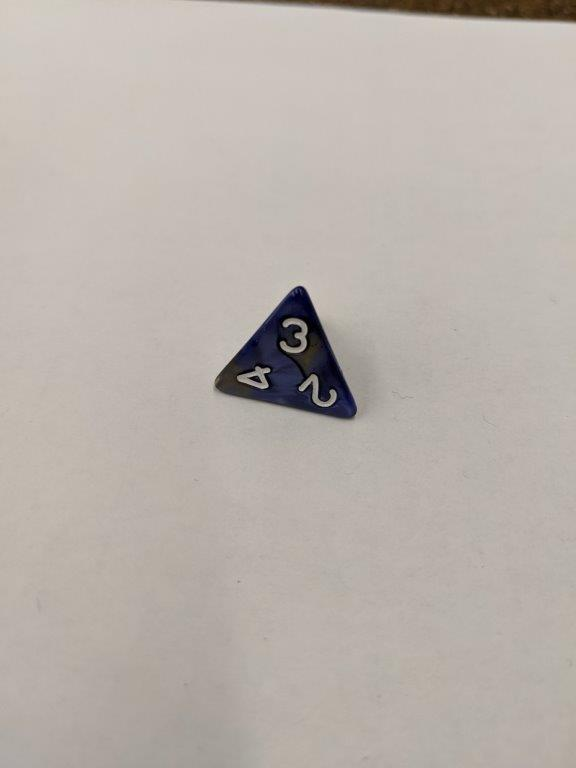d4-3: (209, 282, 364, 428)
